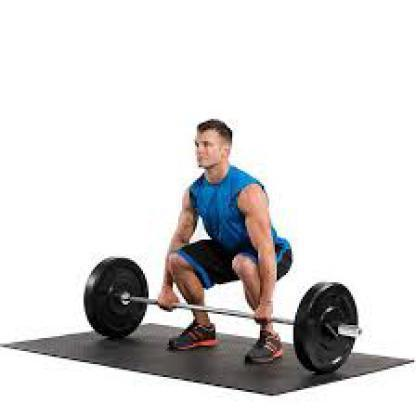barbell: (84, 255, 362, 377)
